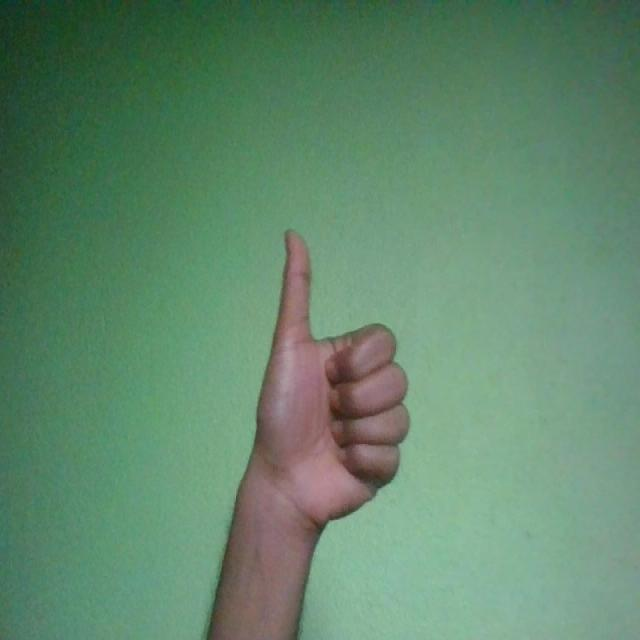Good Job: (255, 230, 411, 534)
